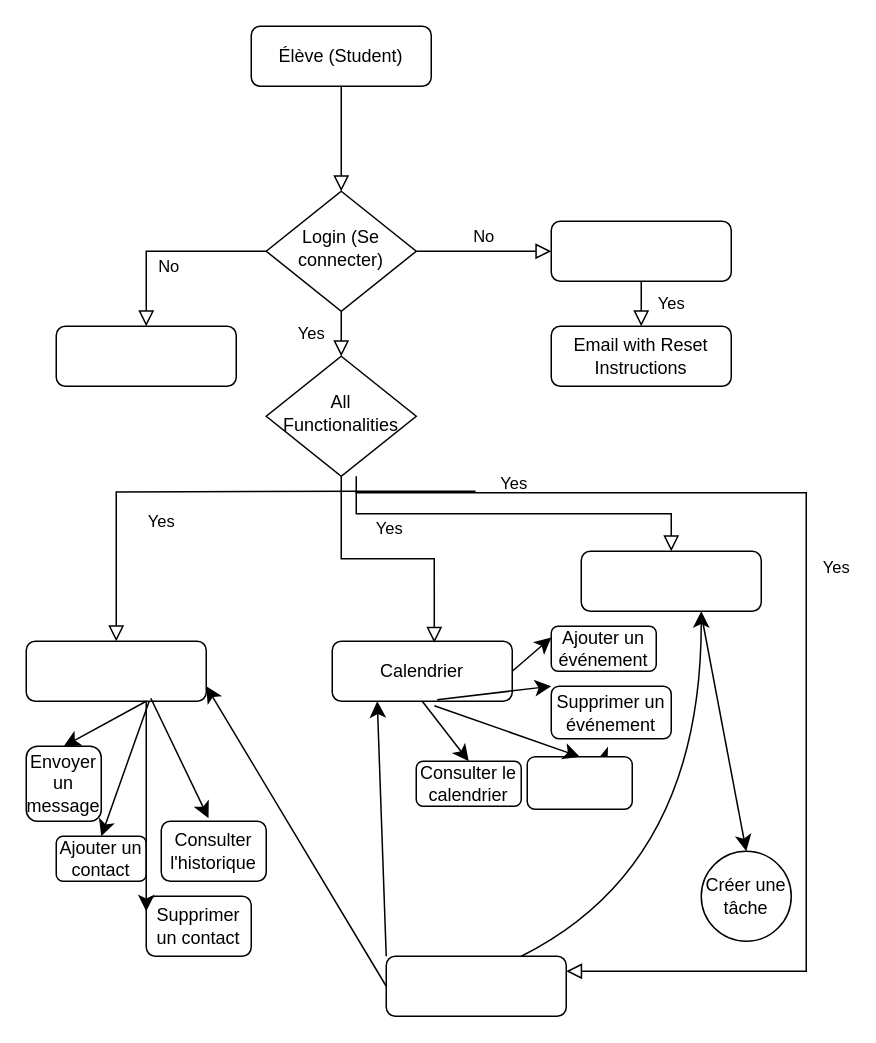
Image size: 876x1043. Some labels were removed from this diagram. The centre of each missing label's shape, as x and y in pixels:
Chat: point 115,670
Create Account (Créer un compte): point 145,355
Dashboard: point 475,985
Gestion des tâches: point 670,580
Modifier un événement: point 579,782
Recover Password (Mot de passe oublié): point 640,250
